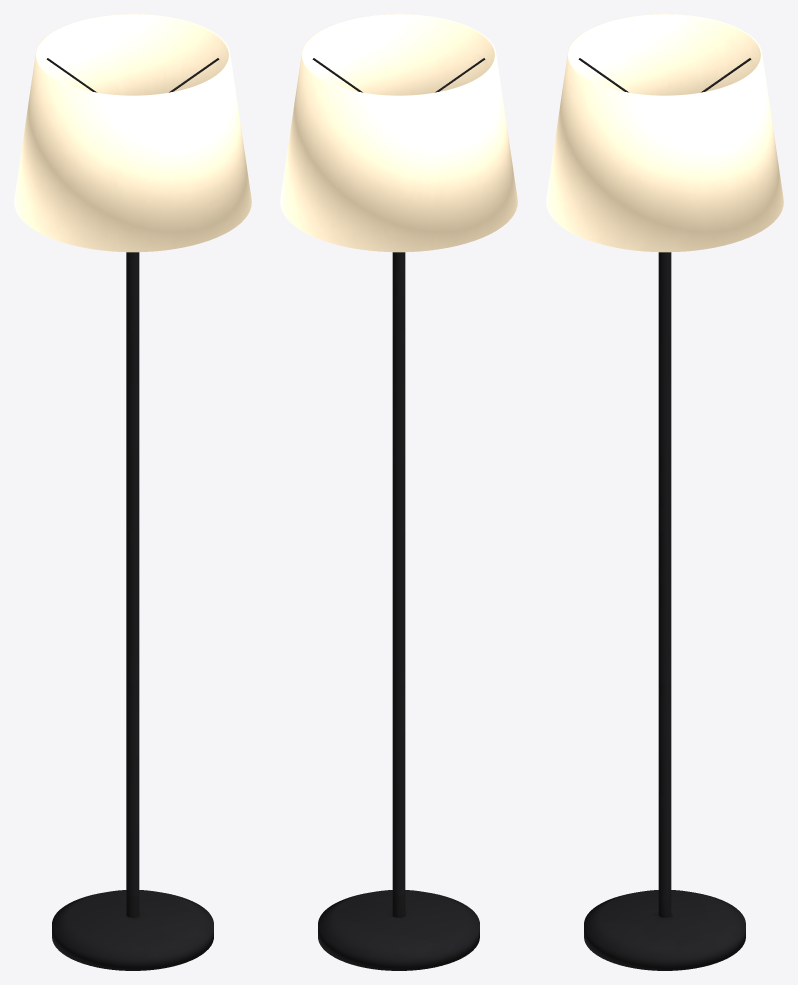
File: column-black.glb
3 views of the same model, side by side, from view 1: azimuth 30°, elevation 25°; view 2: azimuth 150°, elevation 25°; view 3: azimuth 270°, elevation 25° (orthographic).
Visible parts, largest first — view 1: fabric_secondary_shade, metal_frame; view 2: fabric_secondary_shade, metal_frame; view 3: fabric_secondary_shade, metal_frame.
Part boxes in pixels (x1,y1,x2,y2): fabric_secondary_shade: [14, 14, 251, 252]; metal_frame: [46, 58, 219, 970]; fabric_secondary_shade: [280, 14, 517, 252]; metal_frame: [312, 58, 485, 970]; fabric_secondary_shade: [546, 14, 783, 252]; metal_frame: [578, 58, 751, 970].
Bounding box in the file's own units: 0.44 × 1.8 × 0.44.
3 materials, 2 textured.
